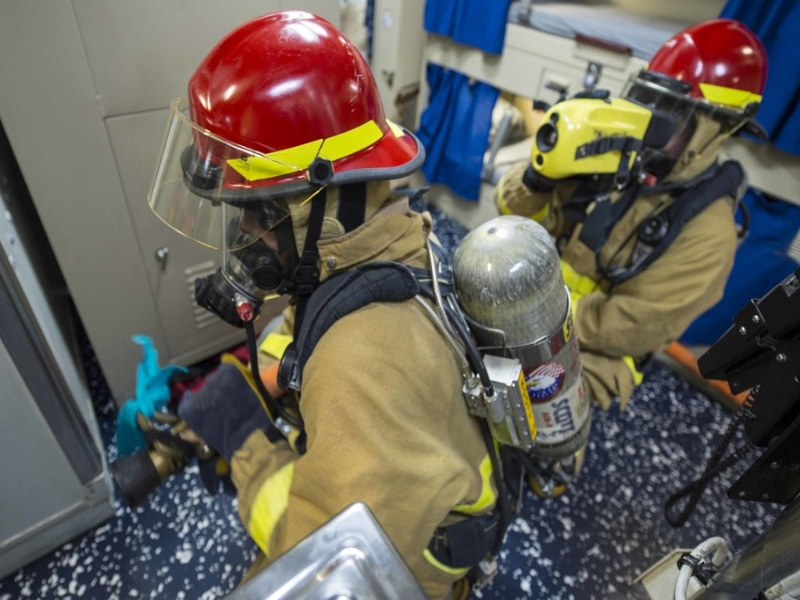Baret: (187, 10, 405, 178), (641, 19, 767, 106)
